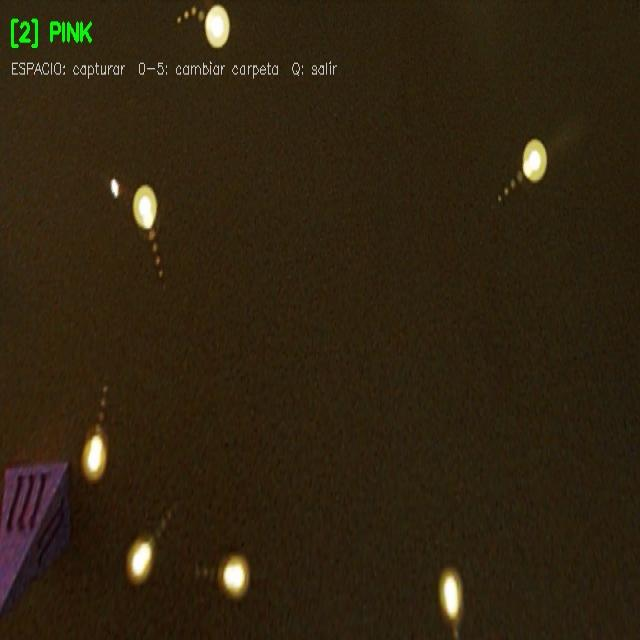pink: (0, 461, 70, 616)
